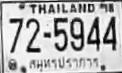2: (25, 17, 40, 52)
4: (102, 15, 116, 50), (86, 16, 100, 50)
5: (53, 17, 67, 51)
7: (8, 17, 23, 52)
9: (70, 16, 83, 50)
SPK: (26, 55, 100, 70)
